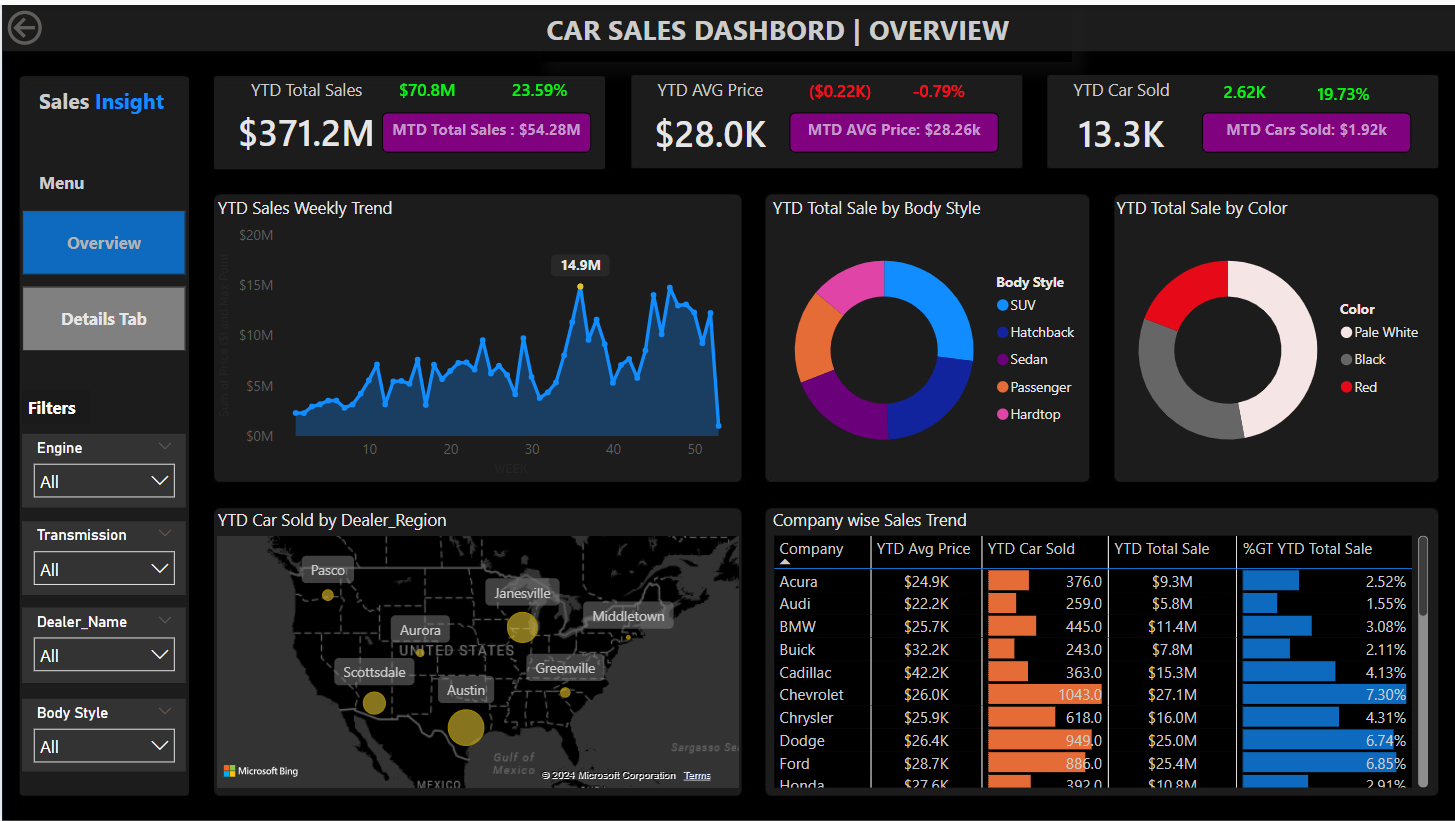

Layout of this report page (visuals, bound fields, positions):
{"tool":"powerbi","page":{"name":"Overview","canvas":[1280,720],"ordinal":0},"visuals":[{"type":"card","title":"YTD Total Sales","fields":{"Values":["car_data.YTD Total Sale"]},"box":[189.8,64.1,155.3,76.4],"z":0},{"type":"actionButton","box":[0,0,100,40],"z":1000},{"type":"card","fields":{"Values":["car_data.Sales Difference"]},"box":[274.8,49.6,198.5,54.5],"z":2000},{"type":"card","fields":{"Values":["car_data.YoY Sale Growth"]},"box":[374,49.6,198.5,54.5],"z":3000},{"type":"card","fields":{"Values":["car_data.MTD KPI"]},"box":[334.1,94.4,184,35.1],"z":4000},{"type":"card","title":"YTD AVG Price","fields":{"Values":["car_data.YTD Avg Price"]},"box":[561.7,64.2,122.3,78.7],"z":5000},{"type":"card","fields":{"Values":["car_data.AVG Price Diff"]},"box":[637.9,50.8,198.5,54.5],"z":6000},{"type":"card","fields":{"Values":["car_data.YOY Avg Price Growth"]},"box":[725.1,50.8,198.5,54.5],"z":7000},{"type":"card","fields":{"Values":["car_data.MTD AVG KPI"]},"box":[692.4,94.4,184,35.1],"z":8000},{"type":"card","title":"YTD Car Sold","fields":{"Values":["car_data.YTD Car Sold"]},"box":[923.6,64.2,122.3,78.7],"z":9000},{"type":"card","fields":{"Values":["car_data.Car Sold Diff"]},"box":[993.8,52.1,198.5,54.5],"z":10000},{"type":"card","fields":{"Values":["car_data.YOY Car Sold Growth"]},"box":[1081,53.3,198.5,54.5],"z":11000},{"type":"card","fields":{"Values":["car_data.MTD Cars Sold KPI"]},"box":[1055.6,94.4,184,35.1],"z":12000},{"type":"areaChart","title":"YTD Sales Weekly Trend","fields":{"Category":["Calender Table.WEEK"],"Y":["Sum(car_data.Price ($))","car_data.Max Point"]},"box":[185,168,468,251],"z":13000},{"type":"donutChart","fields":{"Category":["car_data.Body Style"],"Y":["car_data.YTD Total Sale"]},"box":[672.6,167.9,284.5,251.2],"z":14000},{"type":"donutChart","fields":{"Y":["car_data.YTD Total Sale"],"Category":["car_data.Color"]},"box":[975,167.9,284.5,251.2],"z":15000},{"type":"tableEx","title":"Company wise Sales Trend","fields":{"Values":["car_data.Company","car_data.YTD Avg Price","car_data.YTD Car Sold","car_data.YTD Total Sale1","car_data.YTD Total Sale"]},"box":[672.6,441.7,586.9,251.2],"z":16000},{"type":"textbox","box":[474,0,467,50],"z":17000},{"type":"slicer","fields":{"Values":["car_data.Body Style"]},"box":[17.4,610.5,144.2,64],"z":18000},{"type":"slicer","fields":{"Values":["car_data.Dealer_Name"]},"box":[17.4,530.2,144.2,66.3],"z":19000},{"type":"slicer","fields":{"Values":["car_data.Engine"]},"box":[17.4,376.7,144.2,65.1],"z":20000},{"type":"slicer","fields":{"Values":["car_data.Transmission"]},"box":[17.4,454.7,144.2,65.1],"z":21000},{"type":"textbox","box":[17.4,338.4,60.5,30.2],"z":22000},{"type":"pageNavigator","box":[17.4,180.2,144.2,125.6],"z":23000},{"type":"textbox","box":[27.9,140.7,84.9,39.5],"z":24000},{"type":"textbox","box":[27.9,67.4,125.6,61.6],"z":25000},{"type":"map","fields":{"Category":["car_data.Dealer_Region"],"Size":["car_data.YTD Car Sold"]},"box":[184.9,441.9,468.6,251.2],"z":26000}]}

Visuals, with their boxes in screenshot pixels (x1, y1, x2, y2), scaled from the page's 1280x720 canvas onto the 1455x821 screenshot:
"YTD Total Sales" card: (left=216, top=73, right=392, bottom=160)
actionButton: (left=0, top=0, right=114, bottom=46)
card - car_data.Sales Difference: (left=312, top=57, right=538, bottom=119)
card - car_data.YoY Sale Growth: (left=425, top=57, right=651, bottom=119)
card - car_data.MTD KPI: (left=380, top=108, right=589, bottom=148)
"YTD AVG Price" card: (left=638, top=73, right=778, bottom=163)
card - car_data.AVG Price Diff: (left=725, top=58, right=951, bottom=120)
card - car_data.YOY Avg Price Growth: (left=824, top=58, right=1050, bottom=120)
card - car_data.MTD AVG KPI: (left=787, top=108, right=996, bottom=148)
"YTD Car Sold" card: (left=1050, top=73, right=1189, bottom=163)
card - car_data.Car Sold Diff: (left=1130, top=59, right=1355, bottom=122)
card - car_data.YOY Car Sold Growth: (left=1229, top=61, right=1454, bottom=123)
card - car_data.MTD Cars Sold KPI: (left=1200, top=108, right=1409, bottom=148)
"YTD Sales Weekly Trend" areaChart: (left=210, top=192, right=742, bottom=478)
donutChart - car_data.Body Style x car_data.YTD Total Sale: (left=765, top=191, right=1088, bottom=478)
donutChart - car_data.YTD Total Sale x car_data.Color: (left=1108, top=191, right=1432, bottom=478)
"Company wise Sales Trend" tableEx: (left=765, top=504, right=1432, bottom=790)
textbox: (left=539, top=0, right=1070, bottom=57)
slicer - car_data.Body Style: (left=20, top=696, right=184, bottom=769)
slicer - car_data.Dealer_Name: (left=20, top=605, right=184, bottom=680)
slicer - car_data.Engine: (left=20, top=430, right=184, bottom=504)
slicer - car_data.Transmission: (left=20, top=518, right=184, bottom=593)
textbox: (left=20, top=386, right=89, bottom=420)
pageNavigator: (left=20, top=205, right=184, bottom=349)
textbox: (left=32, top=160, right=128, bottom=205)
textbox: (left=32, top=77, right=174, bottom=147)
map - car_data.Dealer_Region x car_data.YTD Car Sold: (left=210, top=504, right=743, bottom=790)
